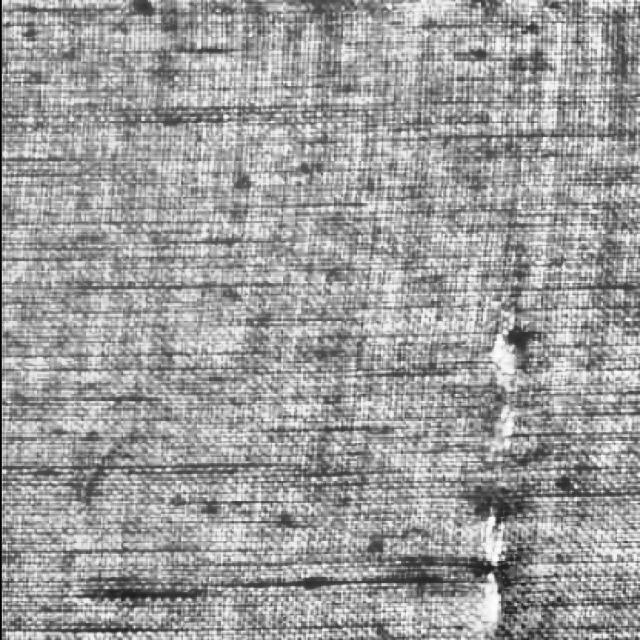thread_error: (456, 273, 542, 640)
